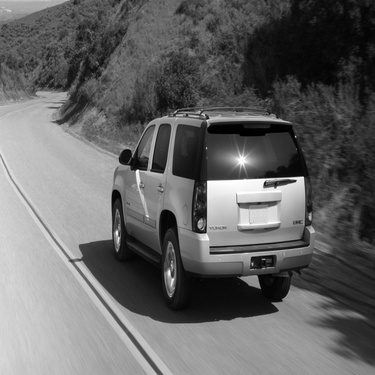car: (107, 99, 314, 311)
